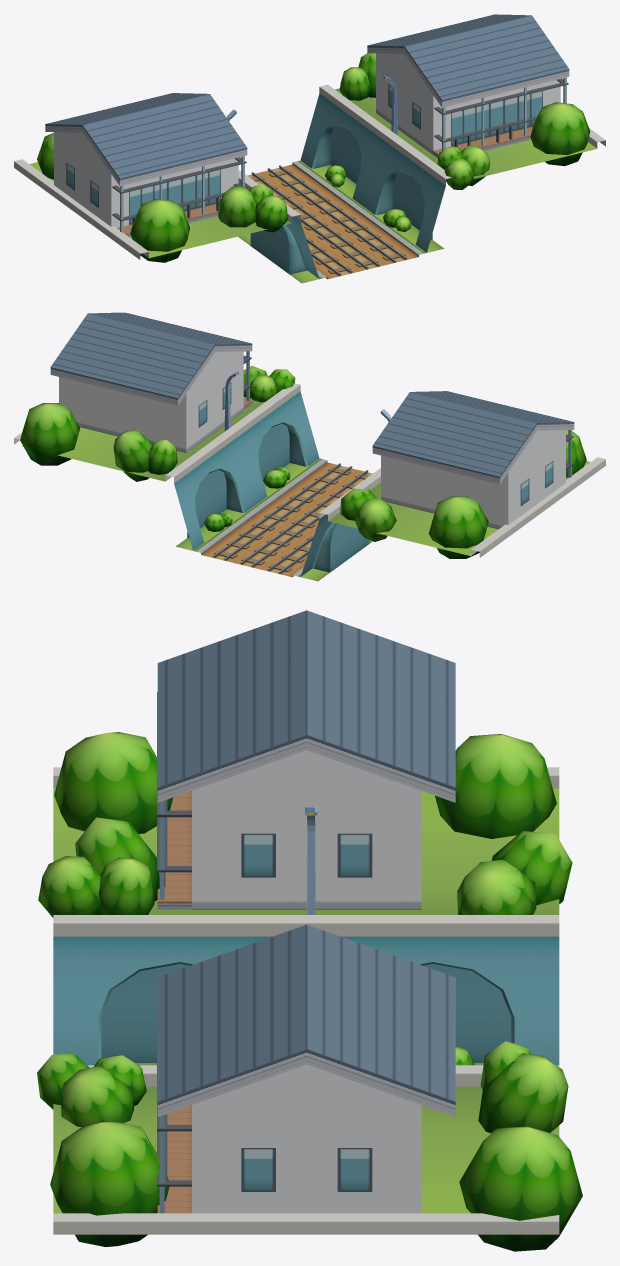
File: Road03.FBX
3 views of the same model, one above another, from view 1: azimuth 30°, elevation 25°; view 2: azimuth 150°, elevation 25°; view 3: azimuth 270°, elevation 25° (orthographic). The views are drawn at different scales.
Parts seen in each view (by area): view 1: Object (×2), Rail; view 2: Object (×2), Rail; view 3: Object (×2).
Boxes of the visible parts, x1,y1,x2,y2 form: Object (×2): [14, 14, 605, 283]; Rail: [247, 164, 418, 278]; Object (×2): [14, 312, 605, 581]; Rail: [201, 462, 372, 576]; Object (×2): [37, 610, 582, 1251].
Bounding box in the file's own units: 3403 × 1077 × 1727.
